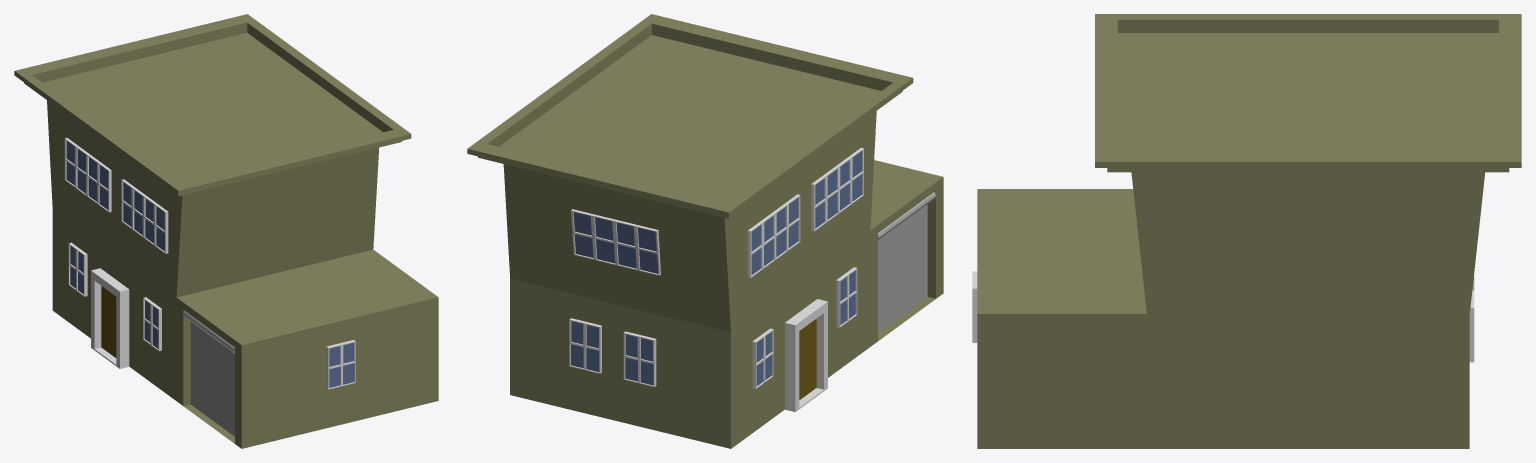
File: Building 002.fbx
3 views of the same model, side by side, from view 1: azimuth 30°, elevation 25°; view 2: azimuth 150°, elevation 25°; view 3: azimuth 270°, elevation 25° (orthographic). The views are drawn at different scales.
Visible parts, largest first — view 1: Building_002_Mesh1, Building_002_Mesh5, Building_002_Mesh2, Building_002_Mesh; view 2: Building_002_Mesh1, Building_002_Mesh4, Building_002_Mesh3, Building_002_Mesh, Building_002_Mesh2; view 3: Building_002_Mesh1.
Boxes of the visible parts, bbox=[...] form: Building_002_Mesh1: bbox=[14, 14, 438, 448]; Building_002_Mesh5: bbox=[326, 340, 355, 389]; Building_002_Mesh2: bbox=[68, 242, 87, 296]; Building_002_Mesh: bbox=[143, 297, 161, 351]; Building_002_Mesh1: bbox=[467, 14, 943, 448]; Building_002_Mesh4: bbox=[623, 331, 656, 386]; Building_002_Mesh3: bbox=[569, 318, 601, 373]; Building_002_Mesh: bbox=[836, 267, 857, 327]; Building_002_Mesh2: bbox=[752, 328, 773, 388]; Building_002_Mesh1: bbox=[977, 14, 1521, 448].
Size of the model in its own units: 4.7 by 4.42 by 7.37.
